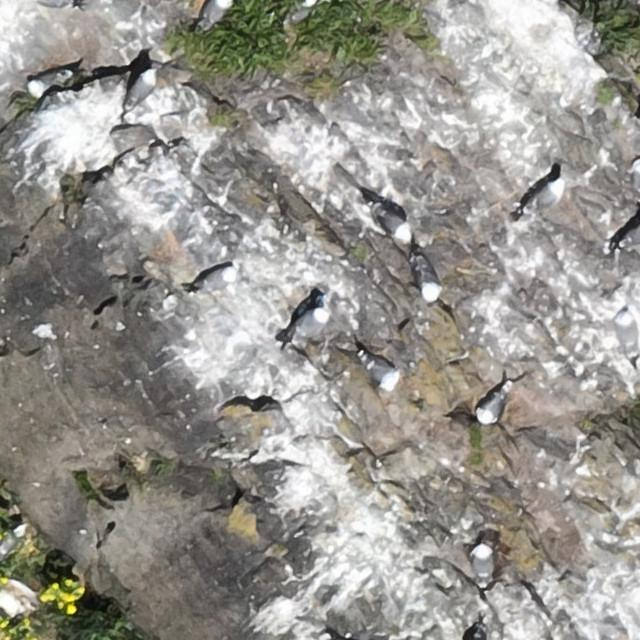umineko: (406, 242, 442, 304), (366, 191, 408, 241), (285, 305, 331, 349), (352, 348, 398, 388), (127, 71, 156, 106), (530, 180, 564, 208), (197, 268, 240, 290), (478, 393, 504, 424), (472, 544, 491, 580), (32, 74, 62, 95), (203, 1, 229, 25), (1, 530, 21, 557), (36, 0, 72, 8)
